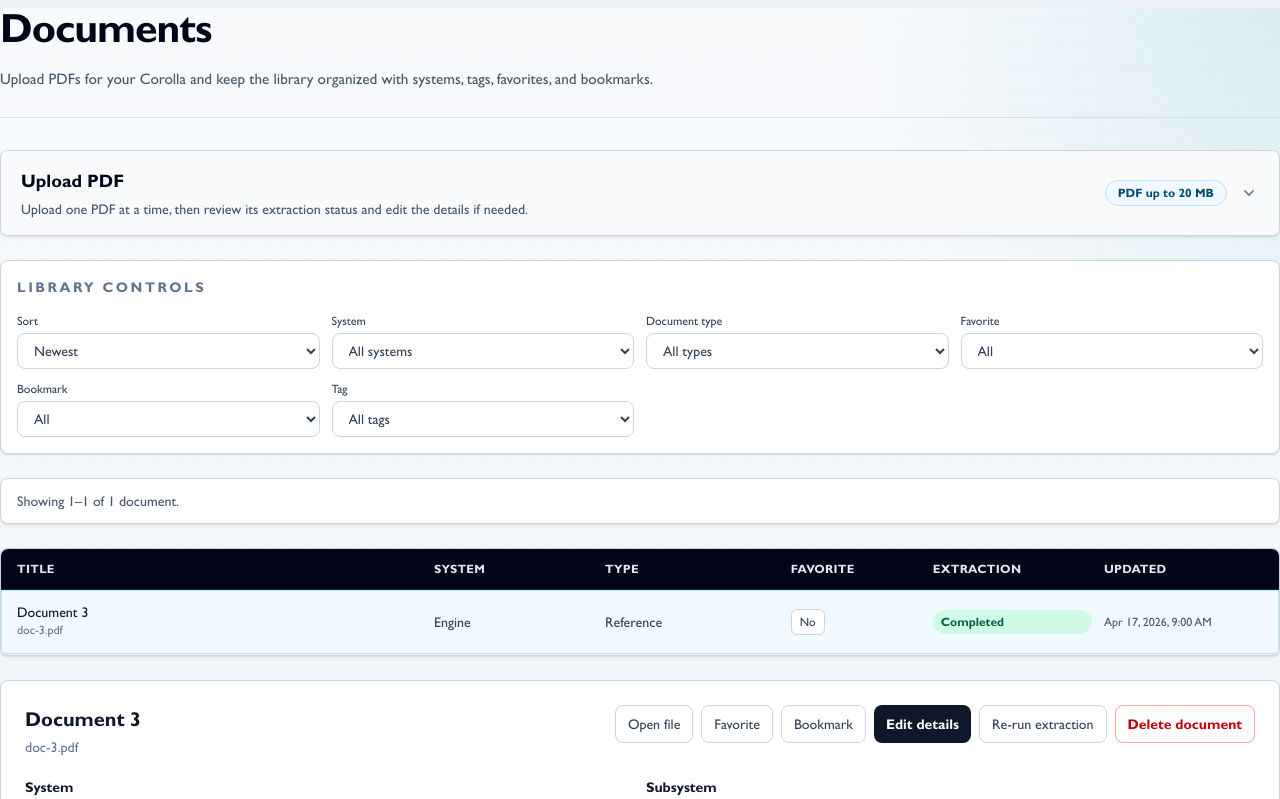
Test: the document action is worded Edit details, not Edit metadata
Step 1. Click the button "Edit details" → (922, 724), box [874,705,971,743]
(page scrolled)
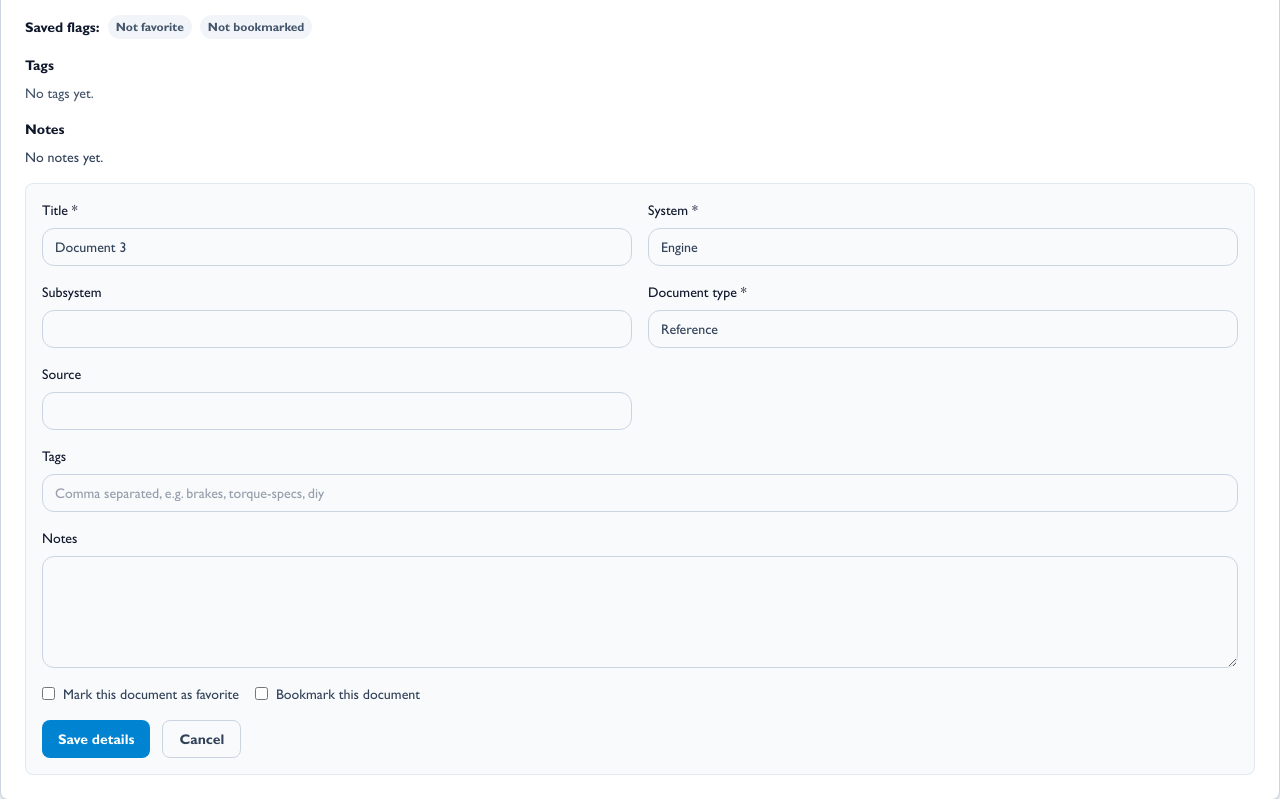
Expected: the button "Save details" is shown
Step 2. Click the button "Save details" → (96, 739), box [42,720,150,758]
(page scrolled)
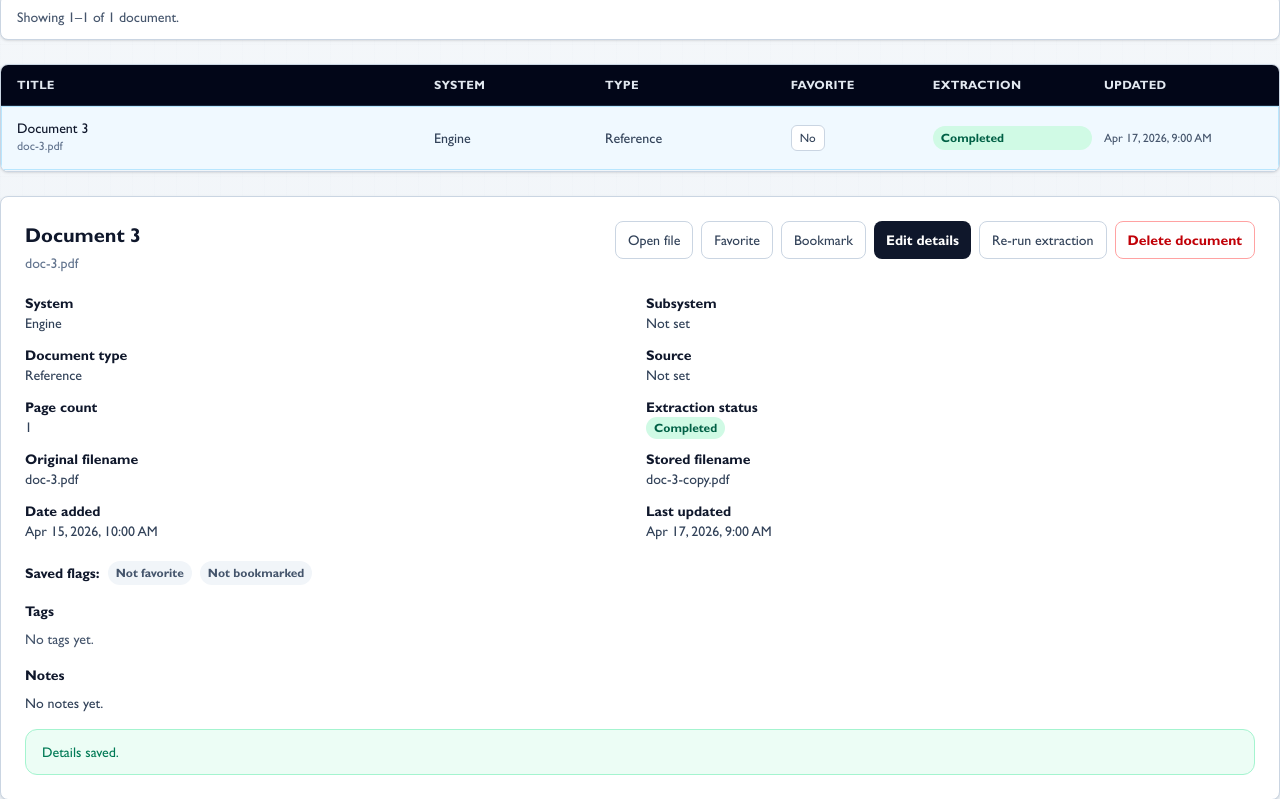
Expected: the text "Details saved." is shown, [25,729,1255,775]
